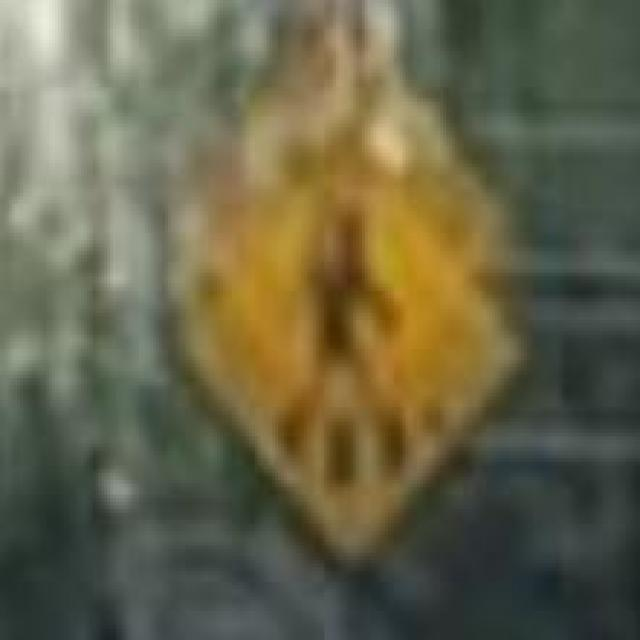traffic sign: (177, 160, 504, 538)
